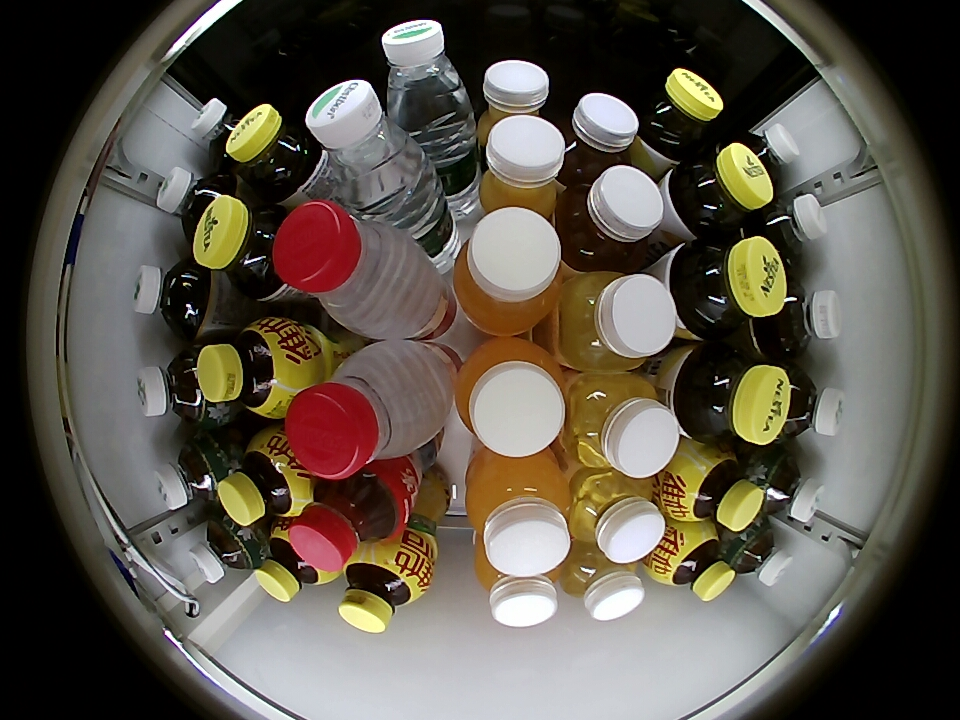binghongcha: (289, 467, 407, 575)
chacui: (671, 236, 787, 339), (673, 344, 789, 444), (194, 197, 297, 302), (669, 144, 771, 237), (228, 104, 322, 200), (636, 68, 723, 163)
chapai: (557, 166, 665, 272), (560, 93, 639, 182)
chapai2: (563, 372, 678, 479), (557, 271, 676, 370), (568, 469, 665, 564), (559, 543, 644, 621)
damaicha: (132, 260, 211, 338), (191, 98, 243, 172)
moliqingcha: (135, 347, 216, 424), (153, 433, 231, 510), (751, 450, 825, 523), (779, 363, 845, 442), (188, 516, 261, 584), (726, 521, 792, 586)
nfc: (477, 114, 566, 218), (476, 60, 554, 139)
nongfushanquan: (275, 200, 431, 339), (287, 342, 442, 481)
weic: (452, 207, 563, 335), (454, 339, 567, 458), (465, 451, 572, 576), (474, 546, 561, 627)
weitaningmeng-bottle: (197, 317, 306, 418), (218, 430, 310, 526), (669, 445, 765, 532), (339, 548, 430, 634), (653, 525, 735, 602), (255, 525, 333, 602)
wulongcha: (157, 167, 237, 240), (767, 281, 842, 357), (755, 193, 827, 264), (733, 123, 800, 186)
yibao: (305, 79, 428, 216), (381, 19, 472, 127)
